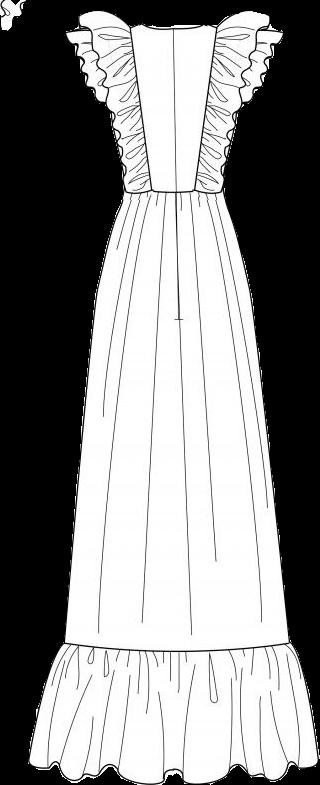Bodice: (66, 11, 282, 196)
Hemline: (26, 757, 319, 784)
Neckline: (189, 28, 223, 196), (126, 26, 159, 197), (126, 21, 217, 35)
Skirt: (29, 195, 318, 783)
Waistline: (212, 29, 283, 197), (210, 17, 272, 194), (64, 29, 134, 182), (79, 17, 134, 193), (59, 637, 292, 658), (121, 187, 228, 201)
